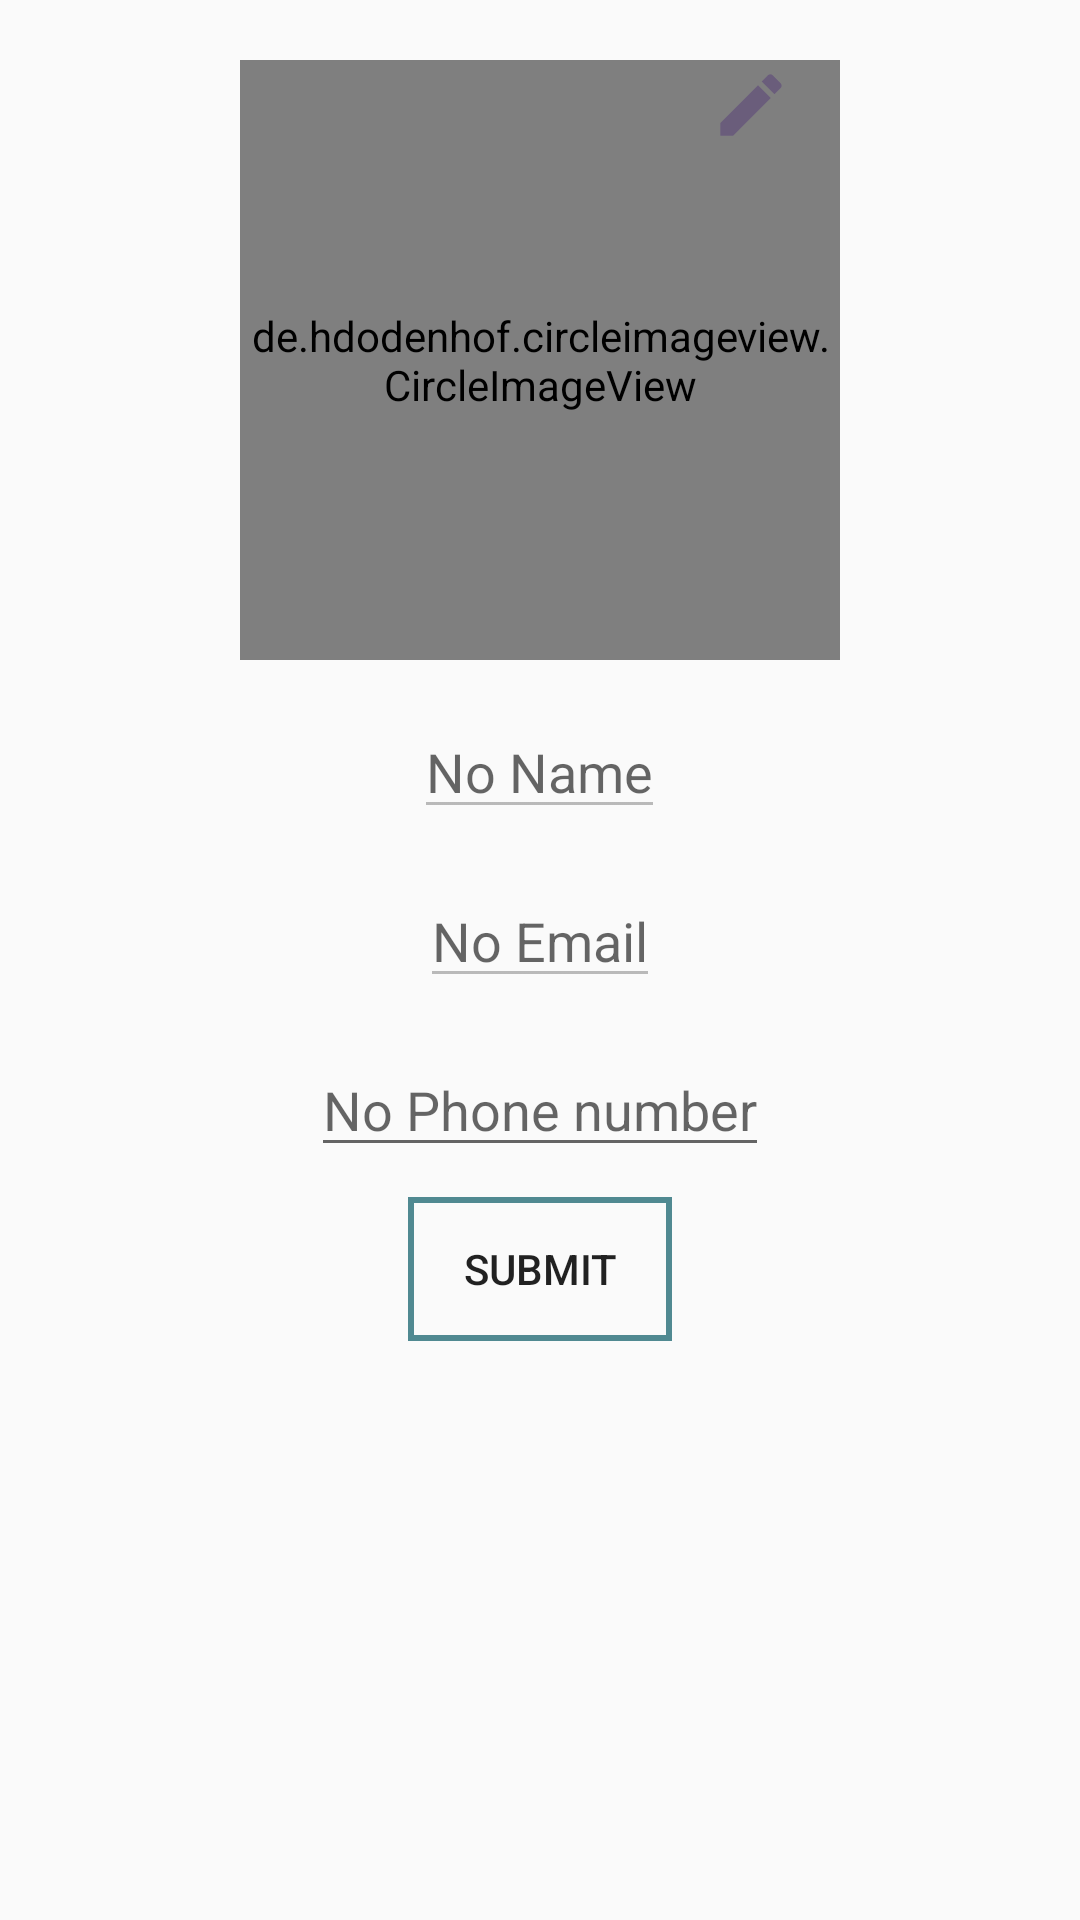

Where to tap for icons on this 1080 × 1920 app screen, as (x=x, y=y):
edit: (x=751, y=105)
